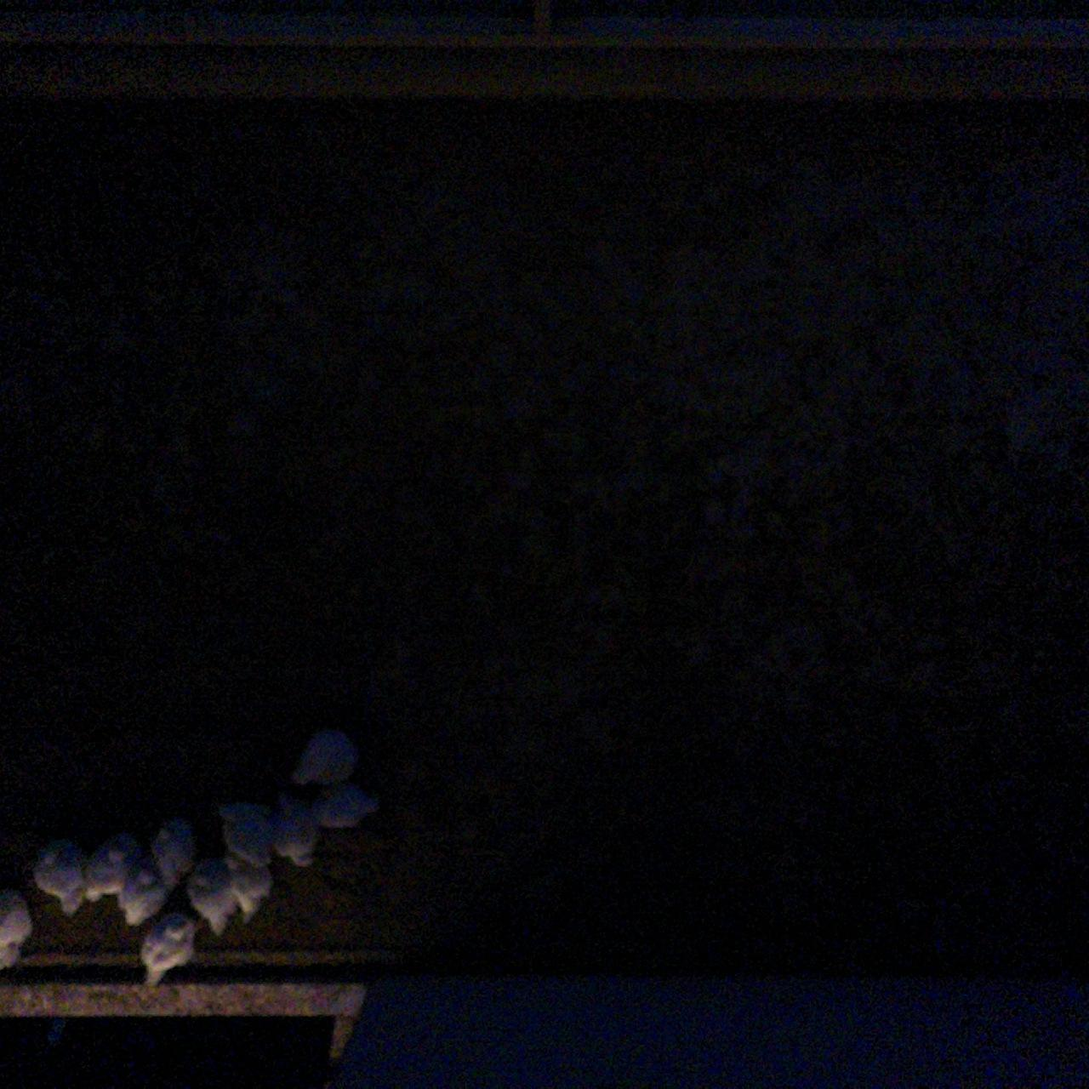chicken: (137, 912, 198, 1002), (216, 798, 283, 870), (291, 724, 365, 787), (192, 851, 242, 941), (225, 847, 281, 927), (152, 817, 203, 890), (31, 850, 85, 918), (274, 795, 322, 868), (116, 868, 171, 927), (315, 784, 387, 828), (82, 841, 130, 900), (0, 894, 34, 970)
